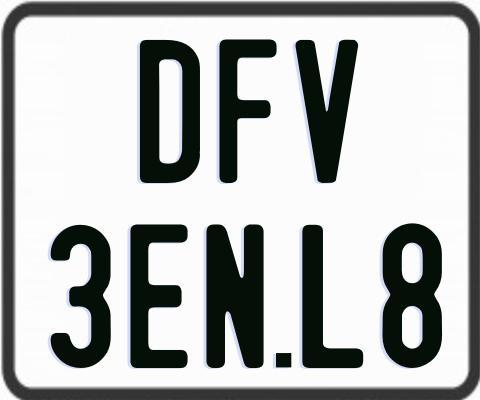3: (49, 225, 113, 368)
8: (382, 220, 444, 365)
D: (137, 40, 202, 189)
E: (129, 224, 188, 372)
F: (218, 38, 279, 185)
L: (299, 224, 362, 370)
N: (203, 224, 264, 368)
V: (292, 37, 356, 181)
